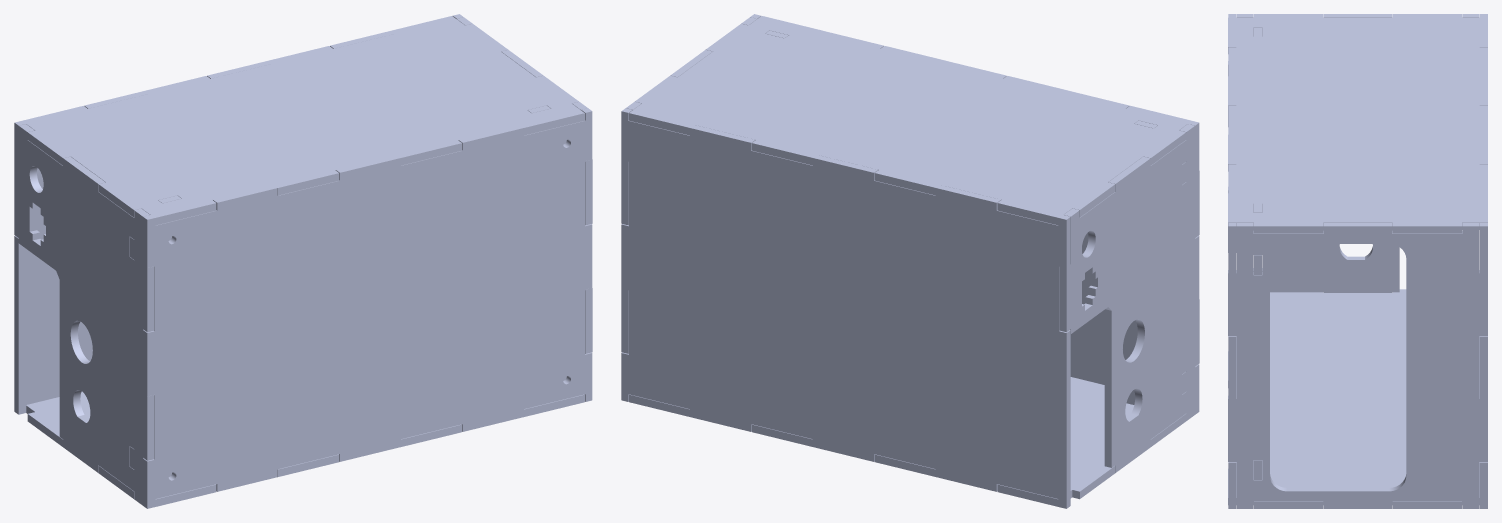
The model's file is sweep.glb.
3 renders of one model, left to right at view 1: azimuth 30°, elevation 25°; view 2: azimuth 150°, elevation 25°; view 3: azimuth 270°, elevation 25°, orthographic. The views are drawn at different scales.
Parts seen in each view (by area): view 1: NAUO10, NAUO3, NAUO4, NAUO1, NAUO2, NAUO5; view 2: NAUO1, NAUO3, NAUO4, NAUO2, NAUO10, NAUO5; view 3: NAUO3, NAUO5, NAUO2, NAUO4, NAUO1, NAUO10.
Boxes of the visible parts, x1,y1,x2,y2 form: NAUO10: [143, 108, 592, 508]; NAUO3: [23, 16, 584, 225]; NAUO4: [14, 124, 154, 505]; NAUO1: [14, 14, 463, 414]; NAUO2: [26, 391, 584, 506]; NAUO5: [457, 17, 592, 353]; NAUO1: [621, 108, 1070, 508]; NAUO3: [629, 16, 1190, 225]; NAUO4: [1059, 124, 1199, 472]; NAUO2: [629, 377, 1186, 506]; NAUO10: [750, 14, 1199, 414]; NAUO5: [621, 17, 756, 353]; NAUO3: [1228, 14, 1487, 233]; NAUO5: [1228, 223, 1487, 508]; NAUO2: [1228, 289, 1479, 508]; NAUO4: [1228, 14, 1479, 292]; NAUO1: [1479, 14, 1487, 508]; NAUO10: [1228, 14, 1236, 508].
Bounding box in the file's own units: 0.1842 × 0.1143 × 0.0953.
